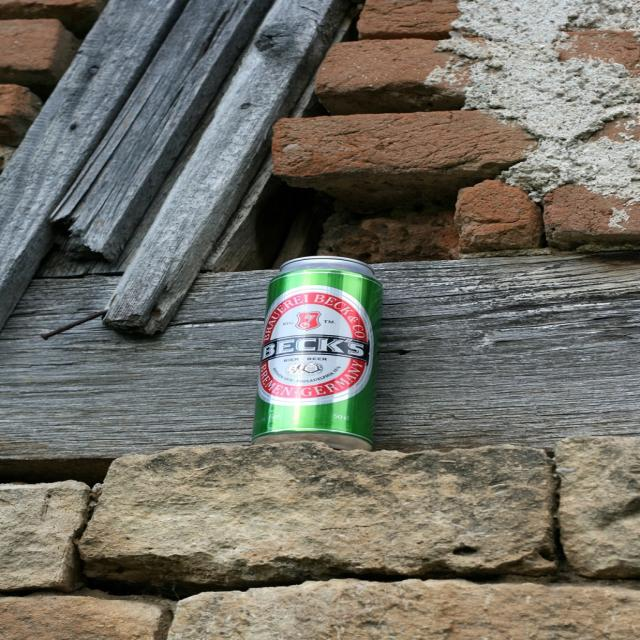becks: (251, 286, 381, 408)
